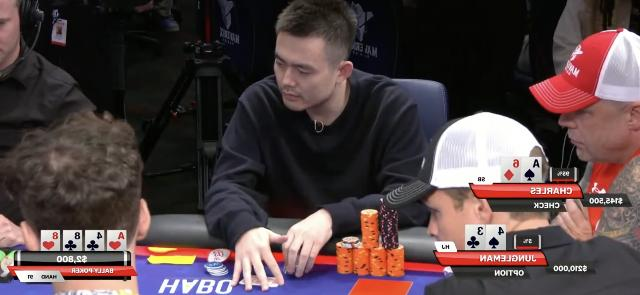3C: (466, 226, 486, 250)
4C: (85, 230, 104, 252)
4S: (486, 226, 506, 250)
6D: (501, 158, 521, 184)
8C: (63, 230, 81, 252)
8H: (41, 232, 59, 252)
AH: (108, 231, 126, 251)
AS: (520, 158, 542, 182)
